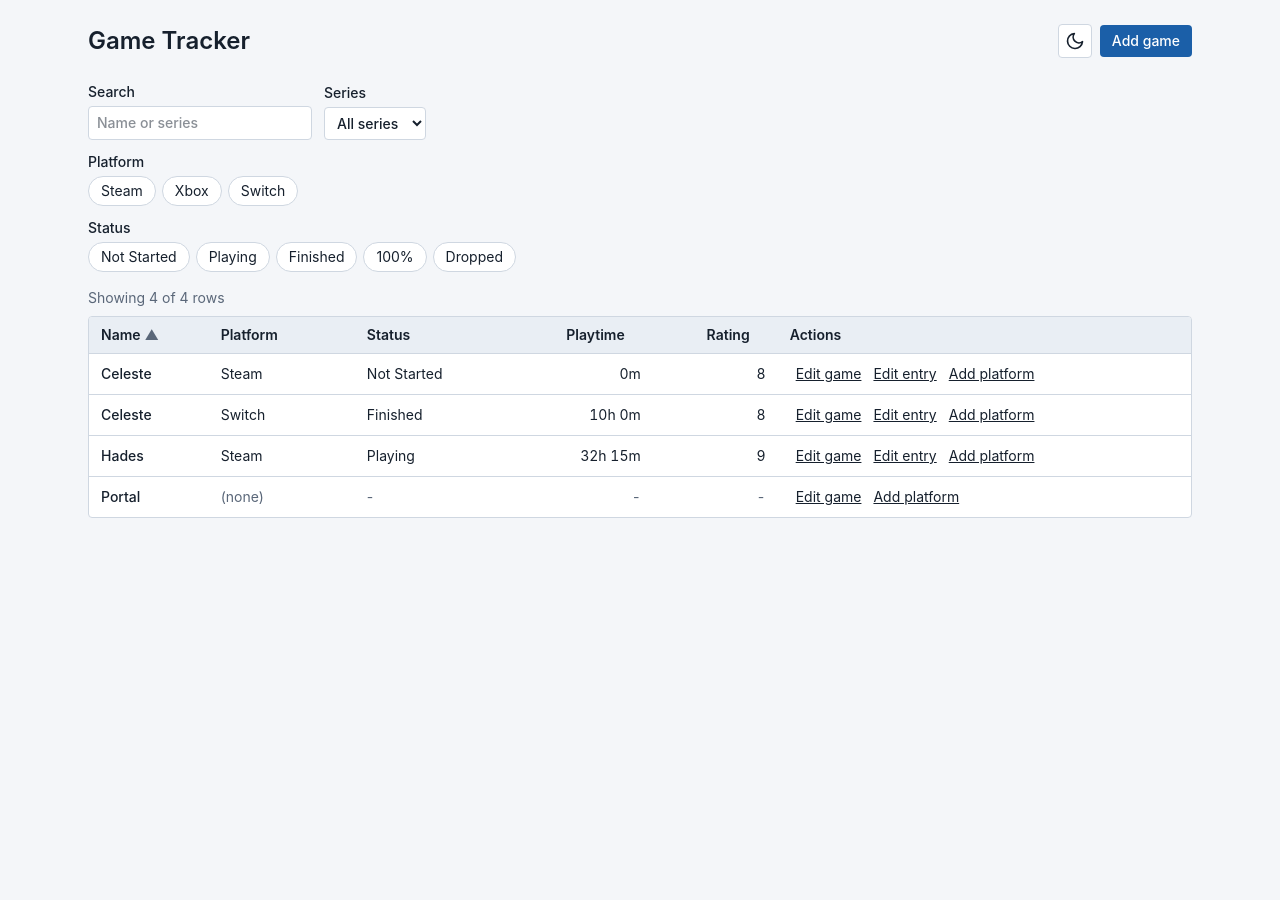
Scenario: LibraryPage › removes one entry and keeps the game on its other platform
Expected: the table is shown, [89, 317, 1191, 517]
Click the button with aria-label "Edit Celeste on Switch" at (905, 415), box [867, 403, 943, 427]
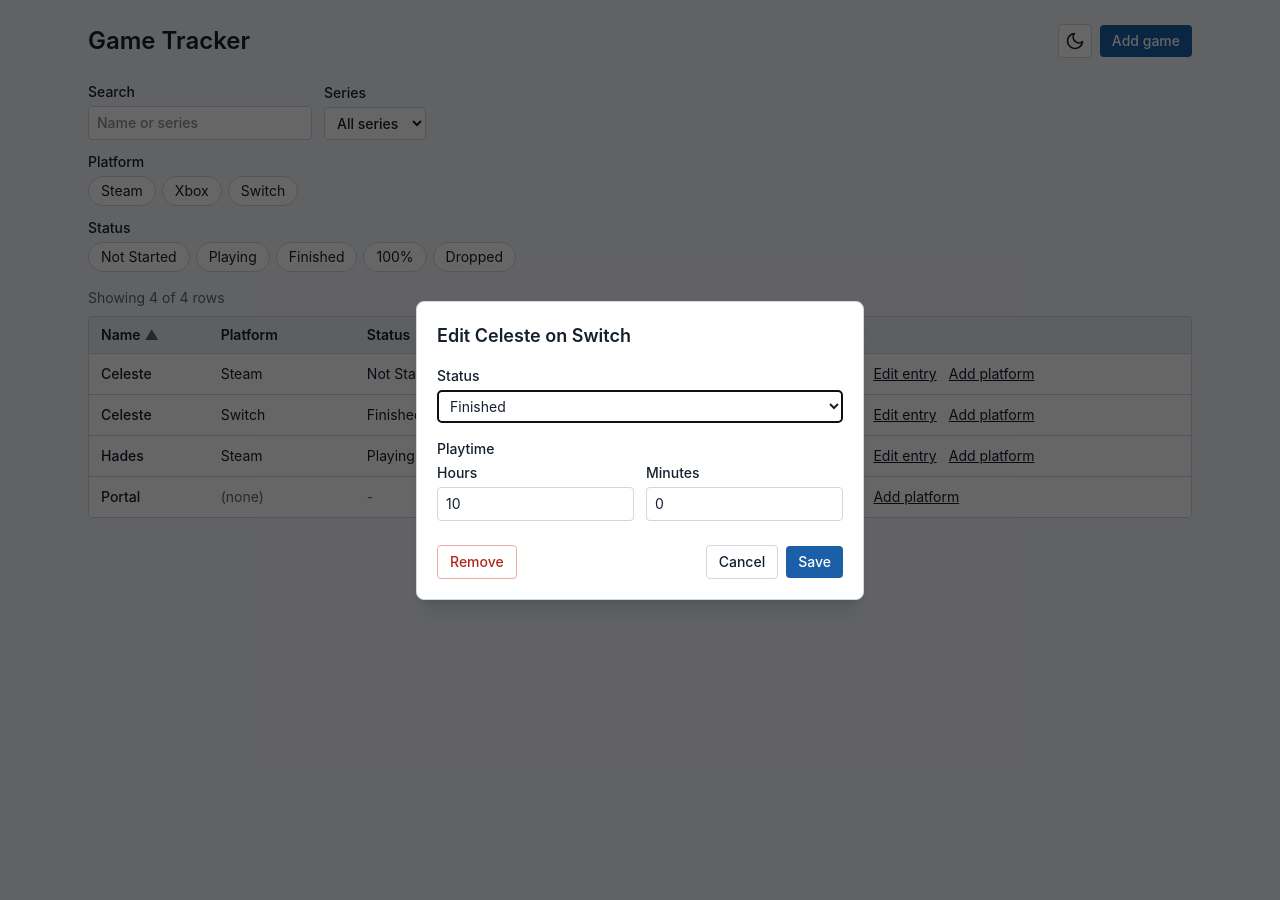
Click the button "Remove" at (477, 562), box [437, 544, 517, 578]
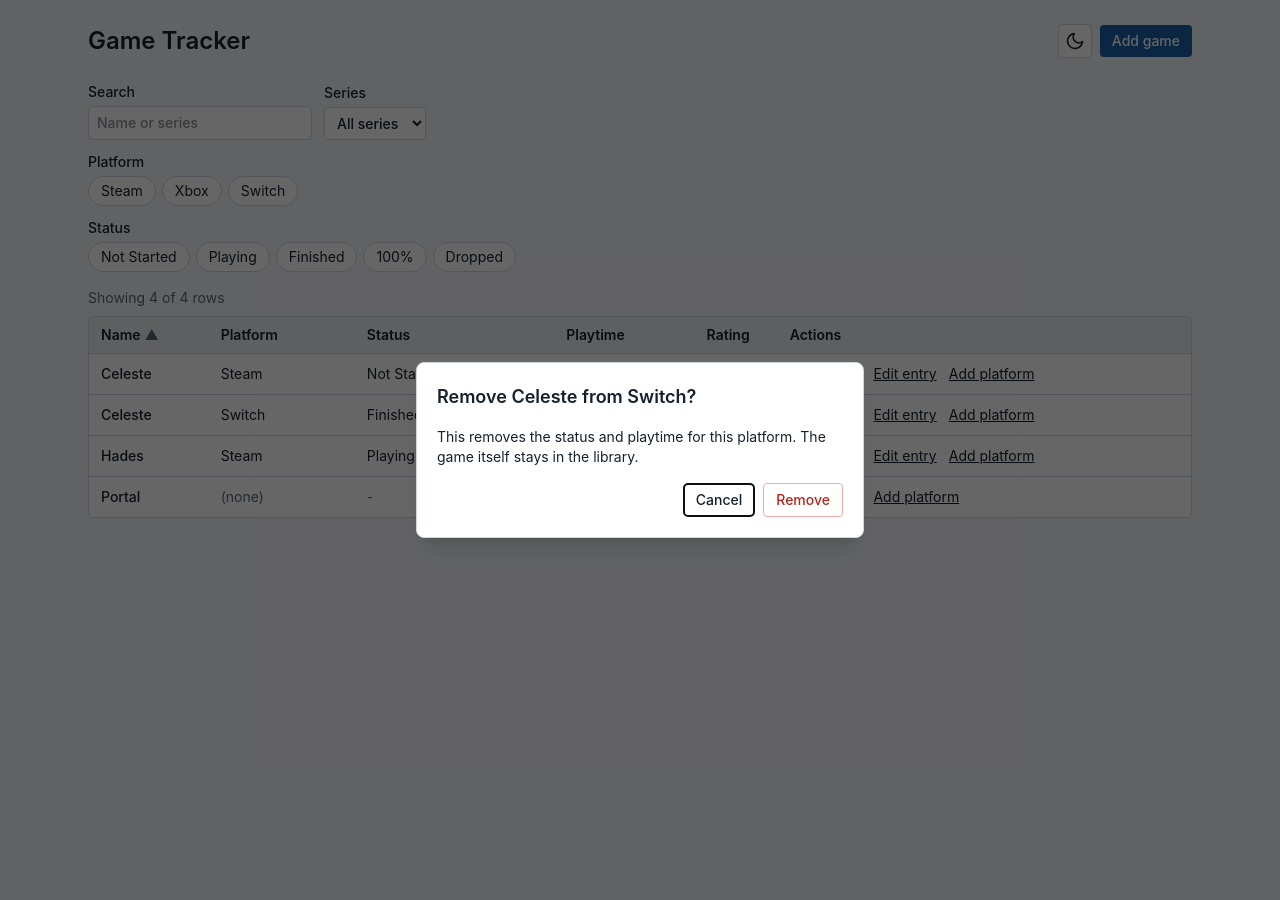
Click the button "Remove" at (803, 500), box [763, 483, 843, 517]
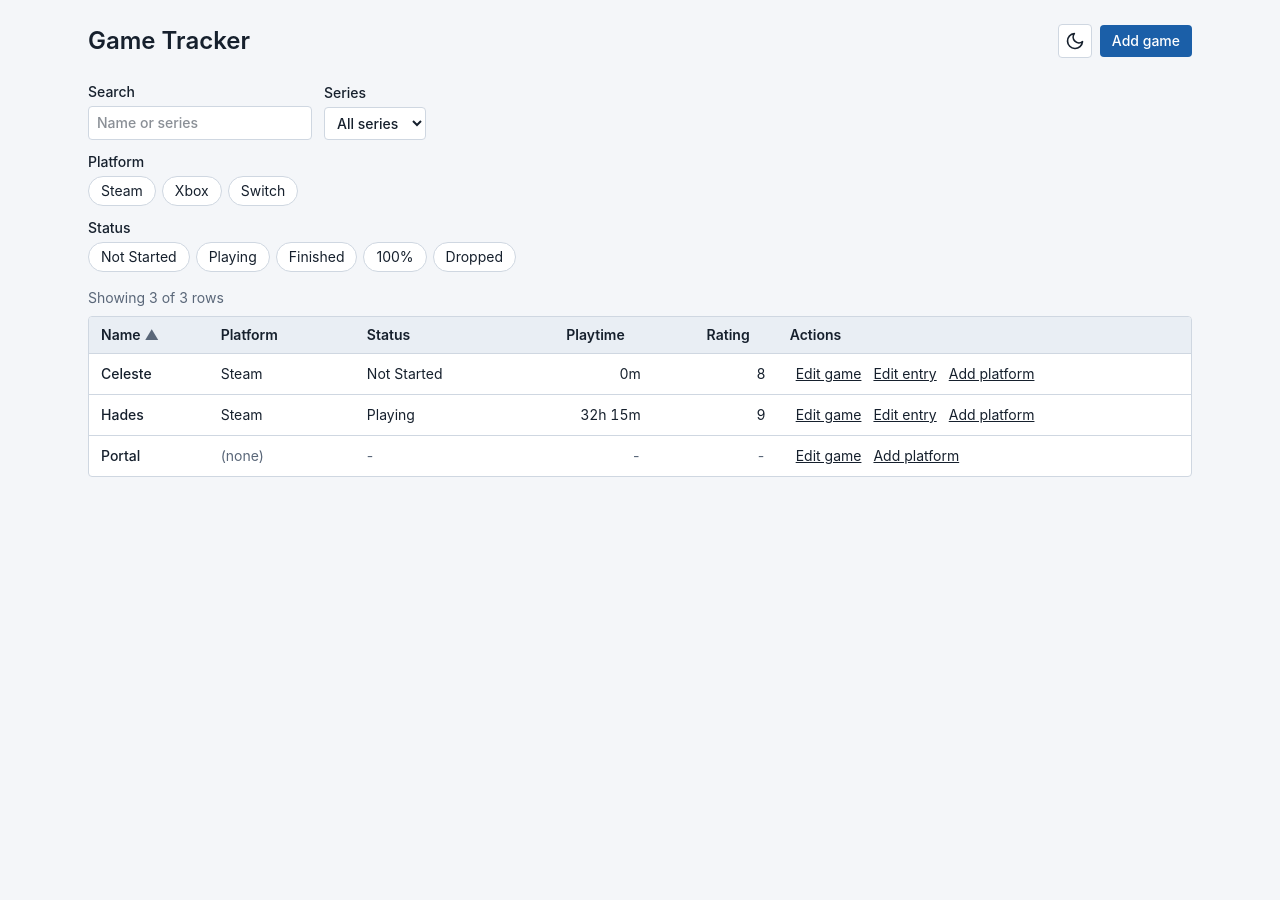
Now the text "Showing 3 of 3 rows" is shown, box [88, 289, 224, 306]
